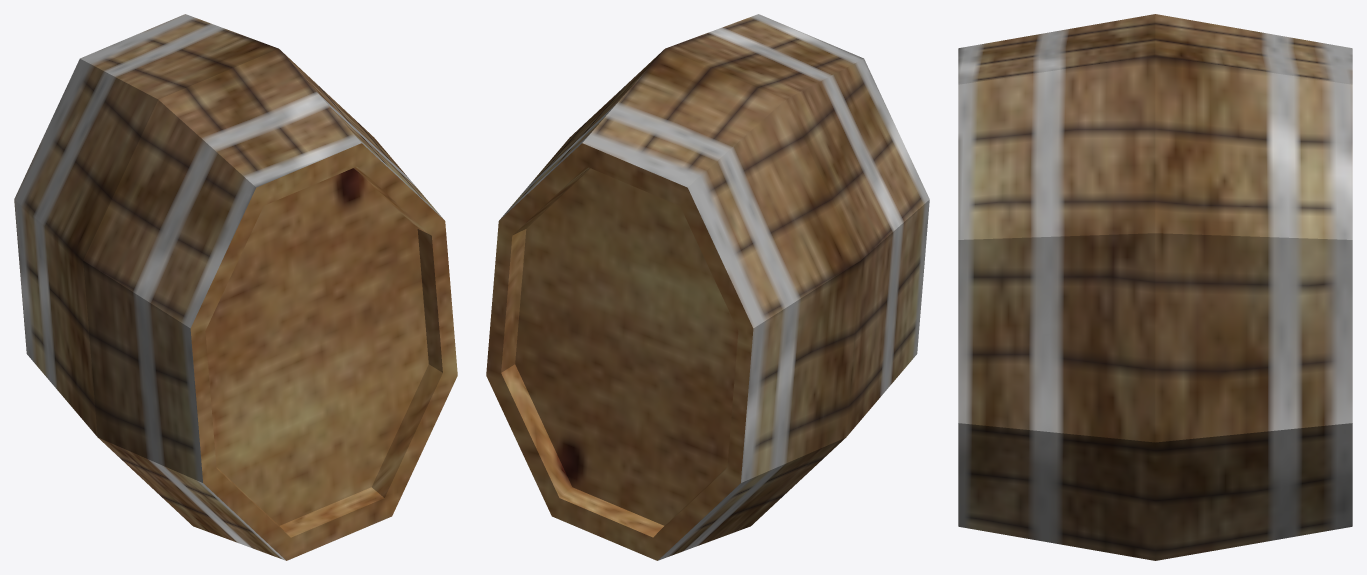
Rendered from barrel.obj.
The picture shows the model from 3 angles, left to right: view 1: azimuth 30°, elevation 25°; view 2: azimuth 150°, elevation 25°; view 3: azimuth 270°, elevation 25°; orthographic projection. The views are drawn at different scales.
Visible parts, largest first — view 1: barrel; view 2: barrel; view 3: barrel.
Part boxes in pixels (left/top/right/bottom): barrel: left=14, top=14, right=457, bottom=560; barrel: left=486, top=14, right=929, bottom=560; barrel: left=958, top=14, right=1352, bottom=560.
Size of the model in its own units: 0.35 by 0.5 by 0.35.
Materials: 1 (1 with a texture image).
